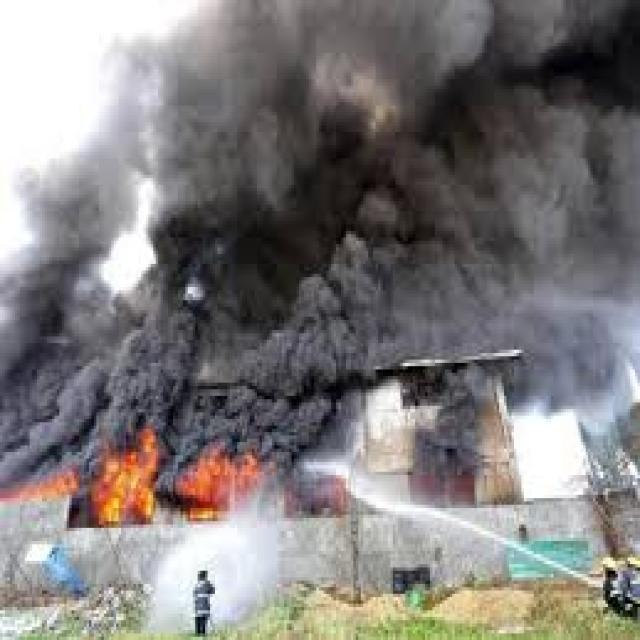Fire: (93, 420, 160, 527), (174, 441, 258, 522), (4, 464, 82, 502)
Smoke: (351, 9, 640, 347), (14, 65, 172, 464), (167, 172, 350, 458)
